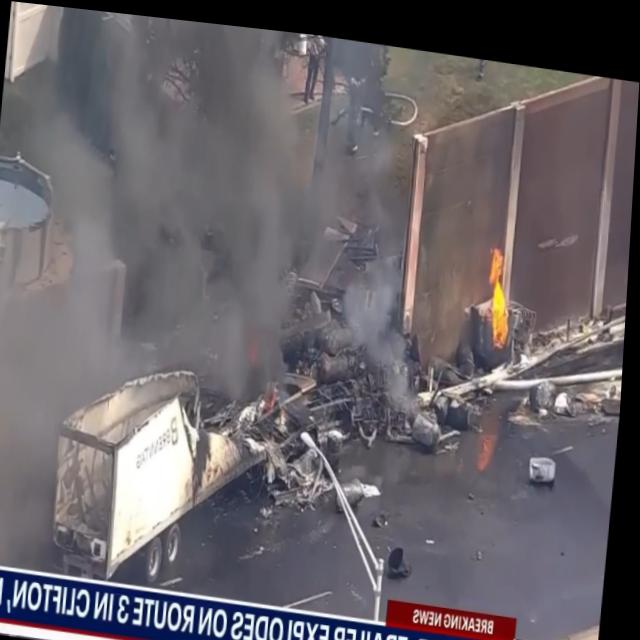Fire: (483, 225, 526, 338)
